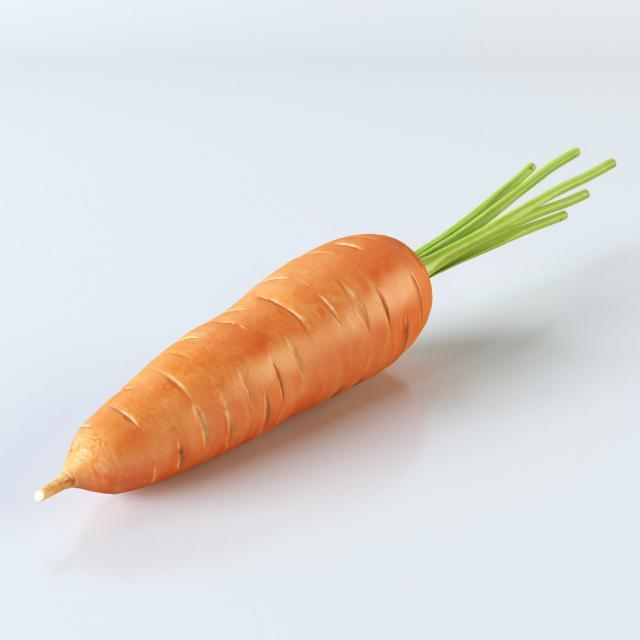carrot: (29, 231, 437, 506)
